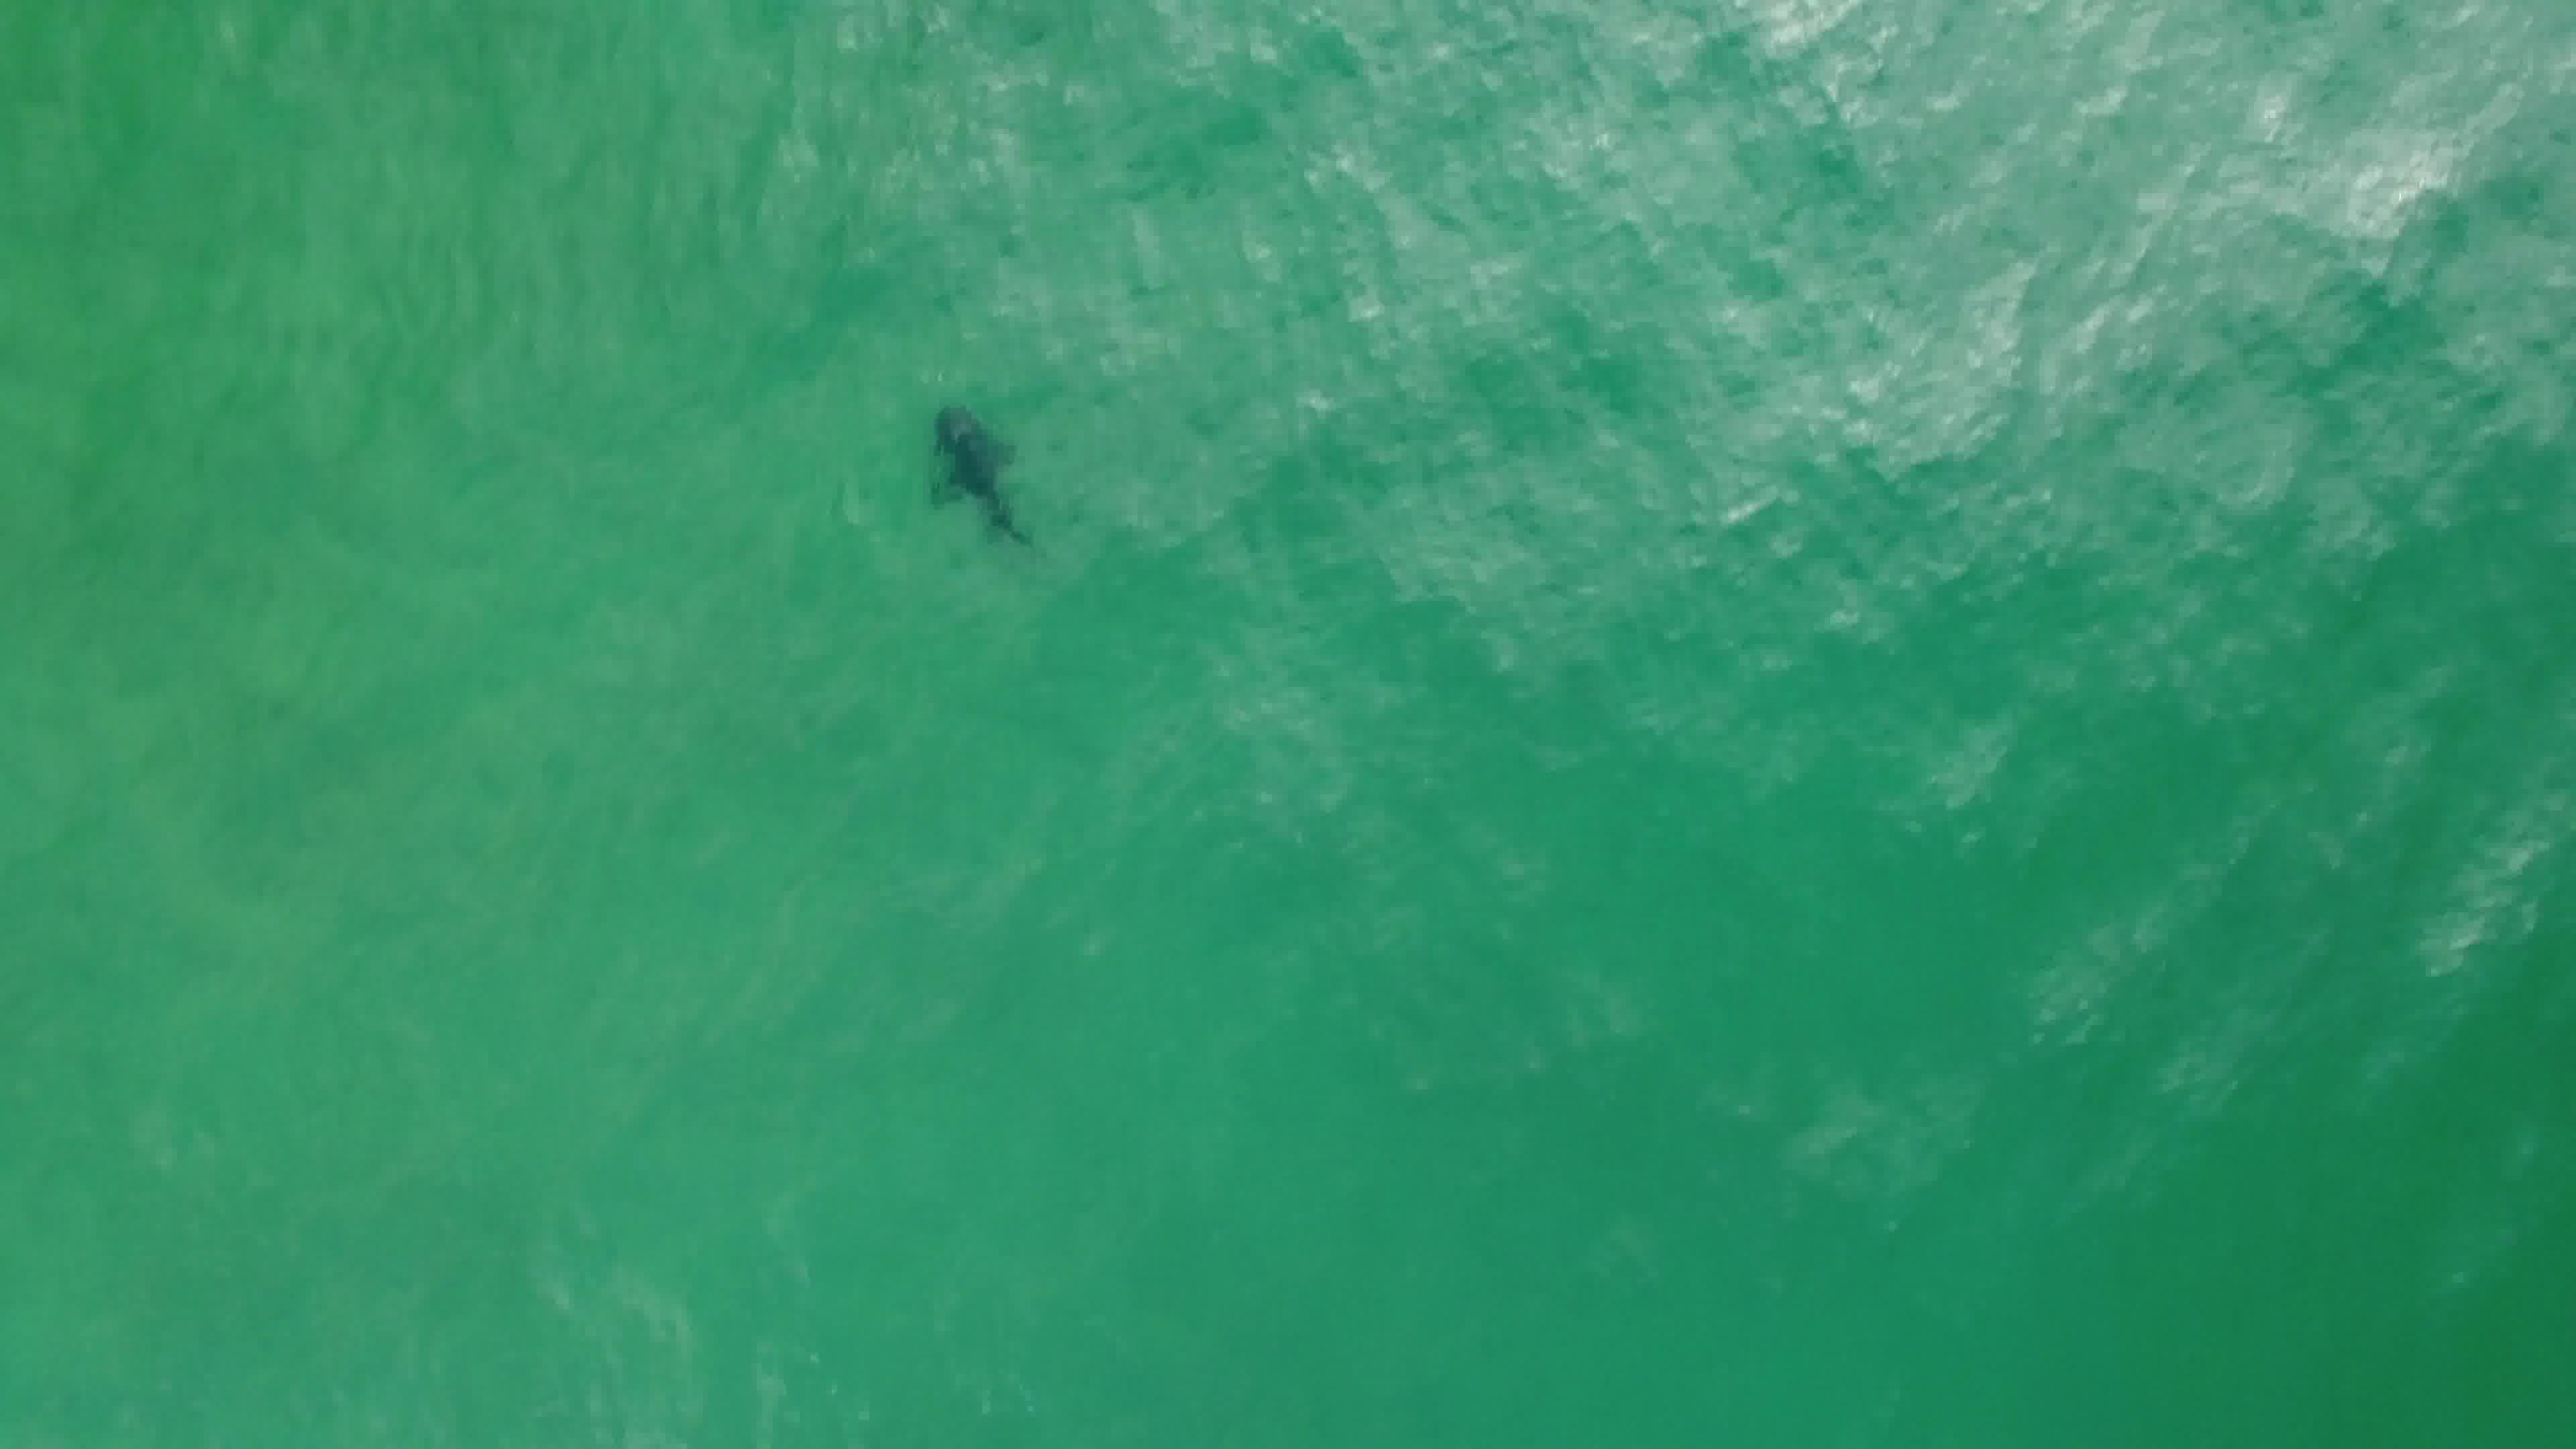shark: (918, 393, 1040, 557)
